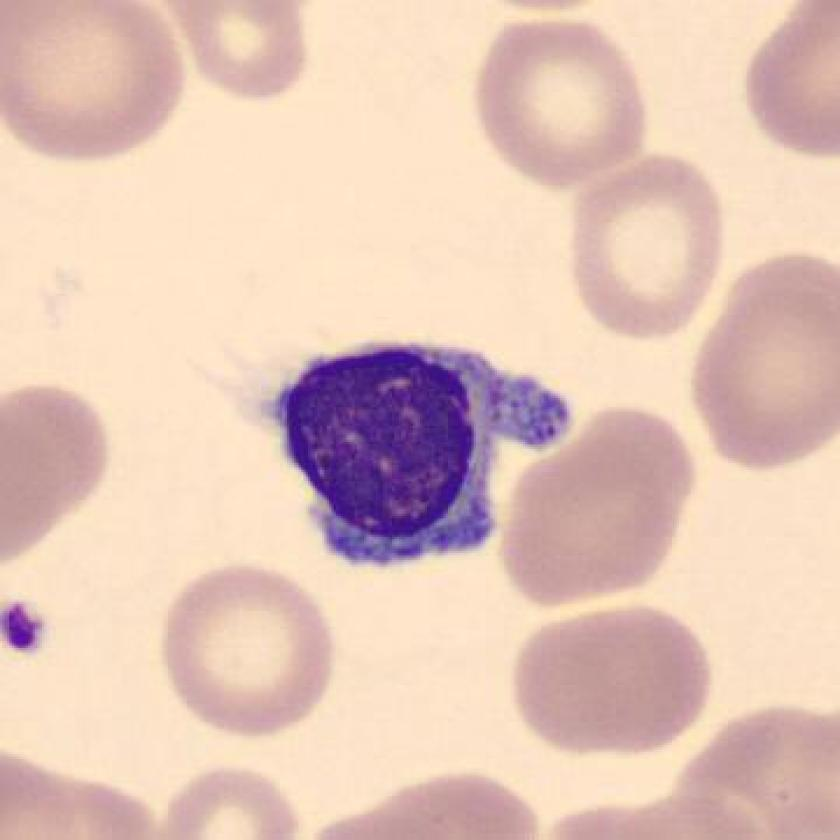lymphocyte: (242, 316, 585, 582)
platelets: (1, 590, 58, 658)
